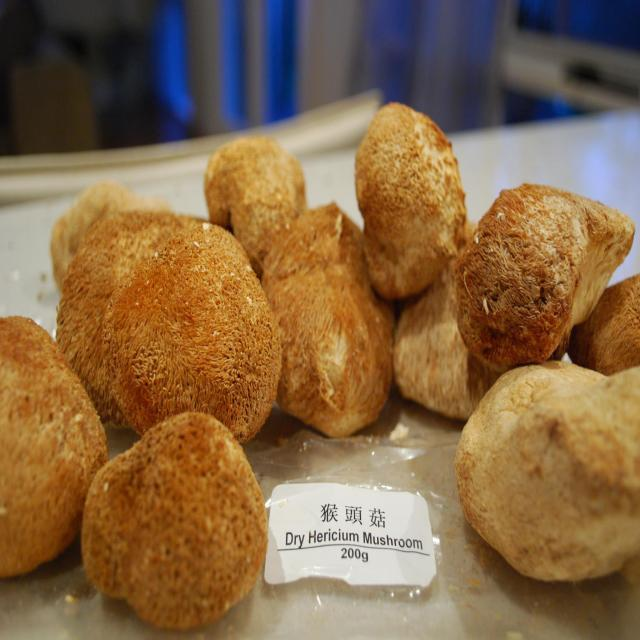Hericium erinaceus: (56, 209, 283, 431), (463, 357, 640, 580), (82, 416, 261, 618), (466, 181, 633, 371), (256, 203, 390, 438), (0, 311, 108, 573), (358, 94, 461, 300), (207, 139, 303, 250)
